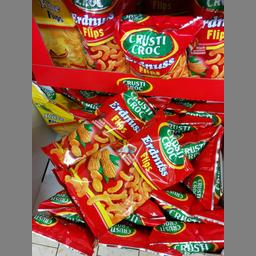chips: (52, 106, 190, 228), (110, 12, 196, 76), (62, 0, 124, 70)
